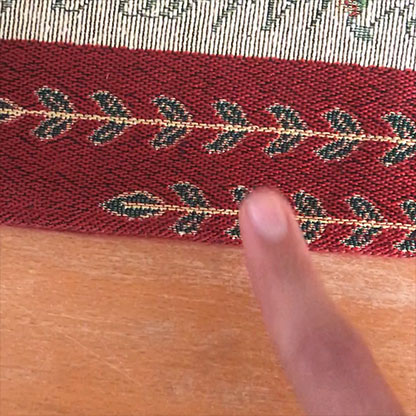fingertip: (231, 183, 309, 265)
